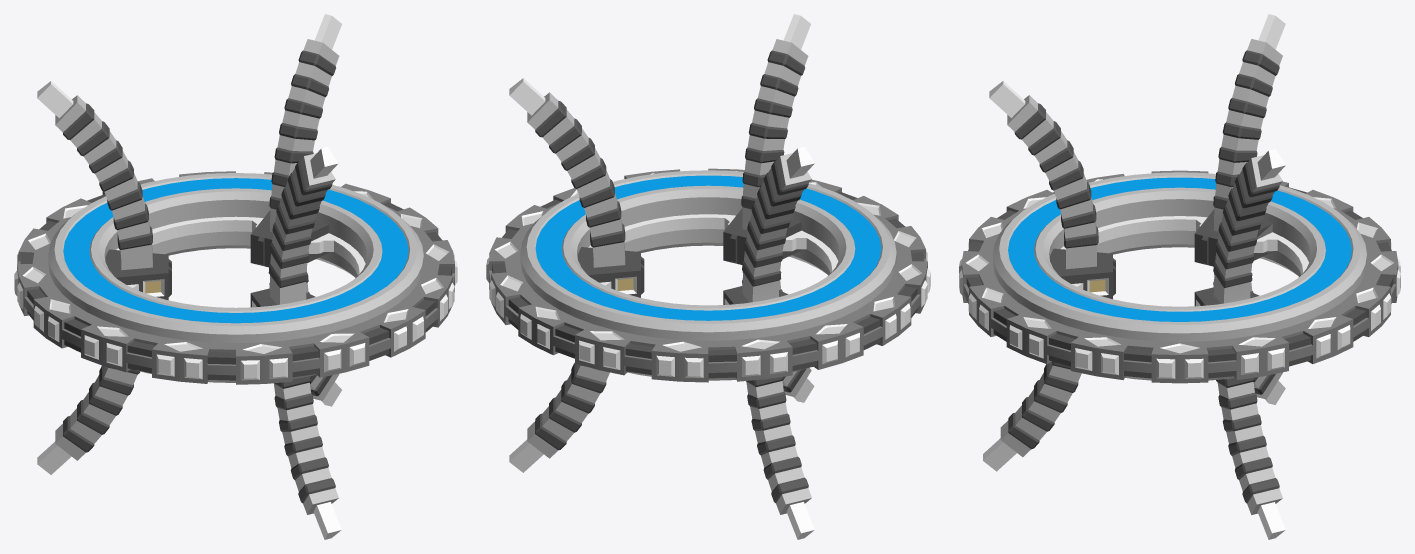
Rendered from station04.fbx.
The picture shows the model from 3 angles, left to right: view 1: azimuth 30°, elevation 25°; view 2: azimuth 150°, elevation 25°; view 3: azimuth 270°, elevation 25°; orthographic projection.
Parts seen in each view (by area): view 1: Mesh_HD; view 2: Mesh_HD; view 3: Mesh_HD.
Part boxes in pixels (box(x1,y1,x2,y2)): Mesh_HD: box(14, 14, 457, 539); Mesh_HD: box(486, 14, 930, 539); Mesh_HD: box(959, 14, 1400, 539).
Size of the model in its own units: 1417 by 1379 by 1417.
